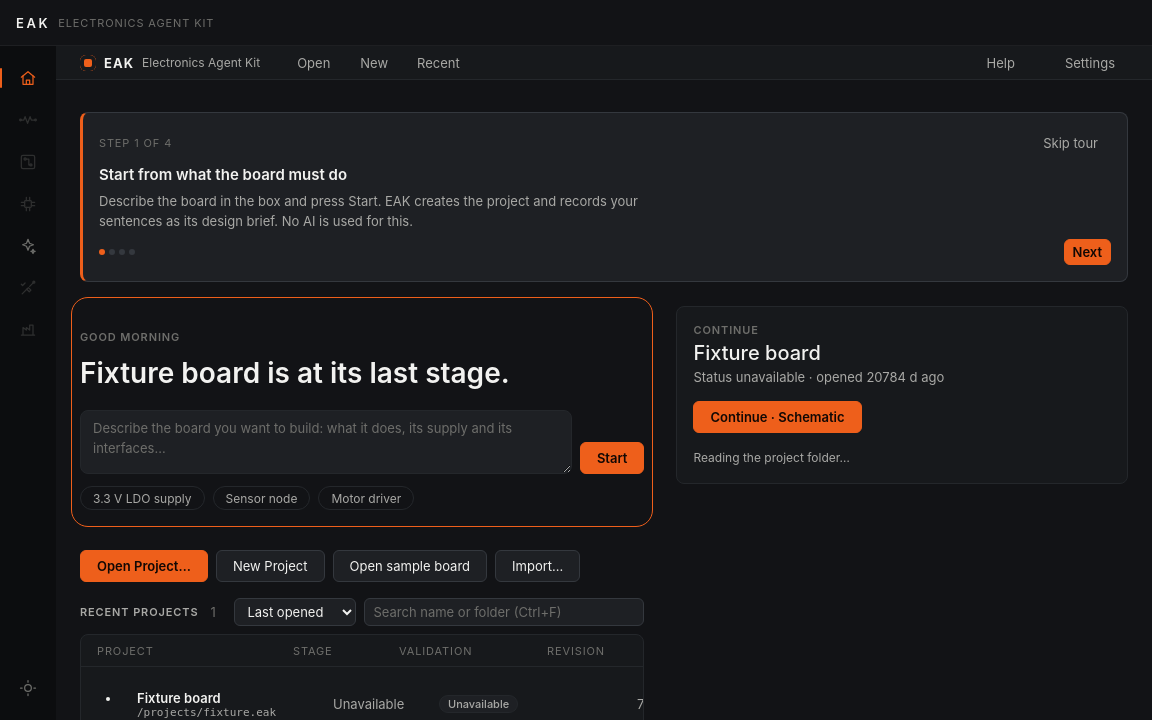
Test: desktop shell flow › runs ERC and shows findings in the Engineering Monitor
Click the text "Fixture board" below "Validation": x=179, y=698 x1=137 y1=690 x2=221 y2=706
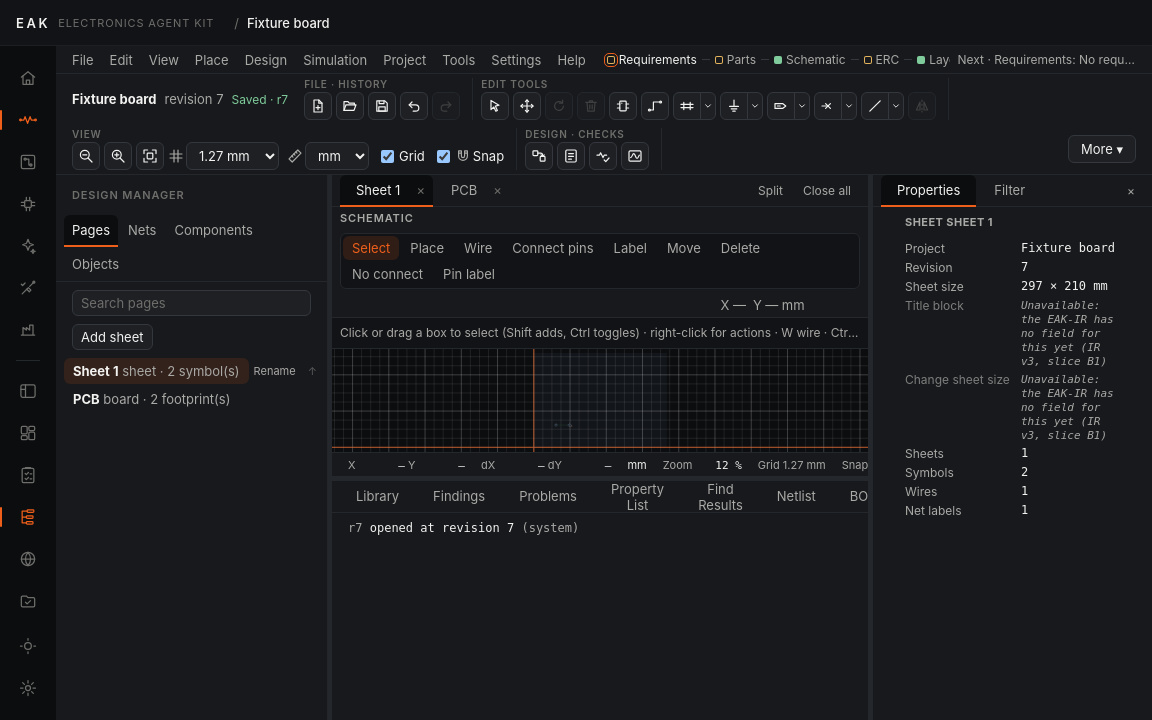
Expected: the picture named "Schematic canvas" is shown, x1=332 y1=349 x2=868 y2=452
Expected: the list item "r7 opened at revision 7 (system)" is shown, x1=348 y1=521 x2=579 y2=535
Click the button named "Run ERC": x=603, y=156 x1=589 y1=142 x2=617 y2=170
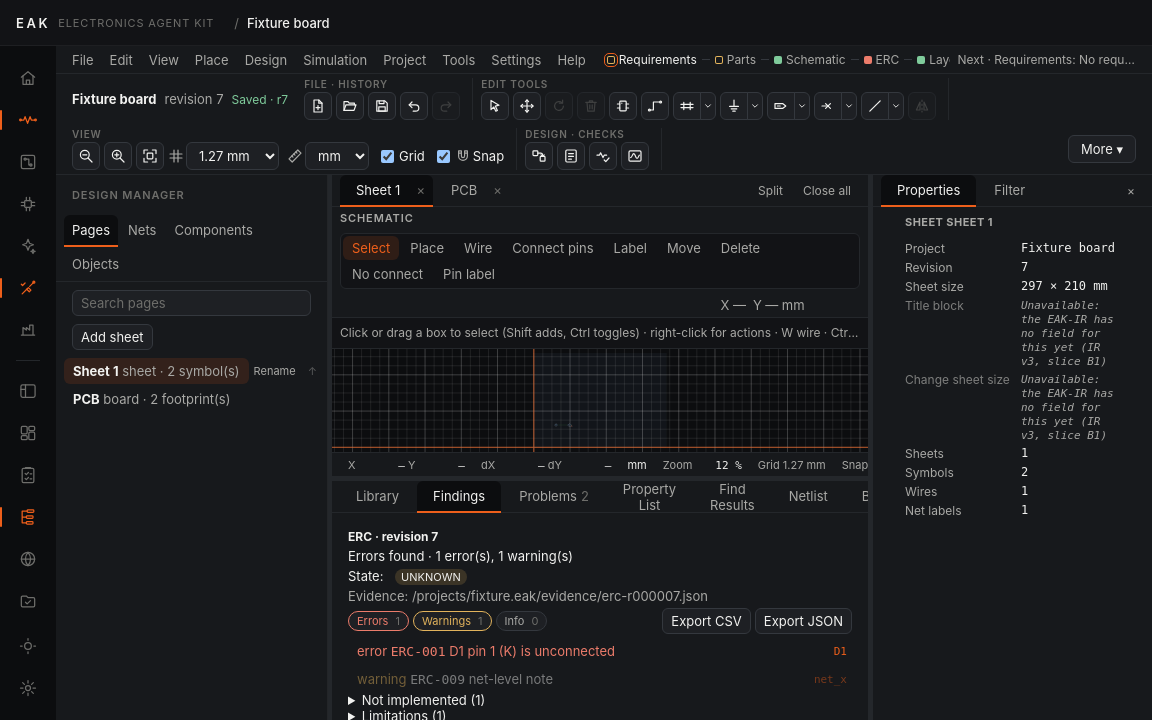
Expected: the button "error ERC-001 D1 pin 1 (K) is unconnected" is shown, x1=348 y1=638 x2=825 y2=664
